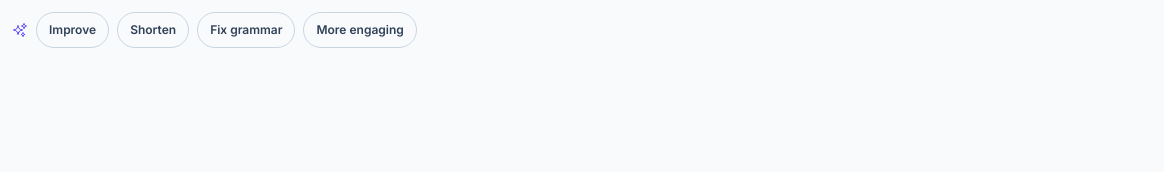
TweetAssistPanel › Use suggestion replaces the draft and dismisses the panel
Click the button "Shorten" at (153, 30), box 117,12 -> 189,48
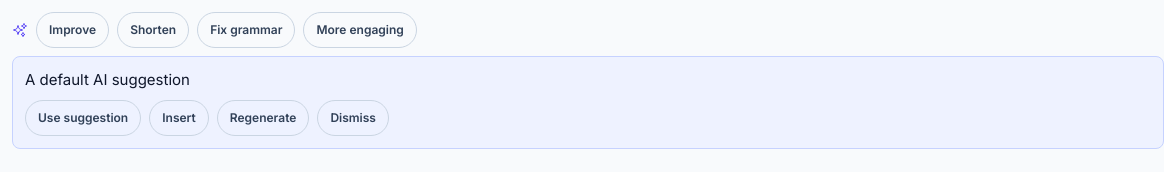
Now the element with test id "assist-suggestion" is shown, box 12,56 -> 1163,148
Click the button "Use suggestion" at (83, 118), box 25,100 -> 141,136
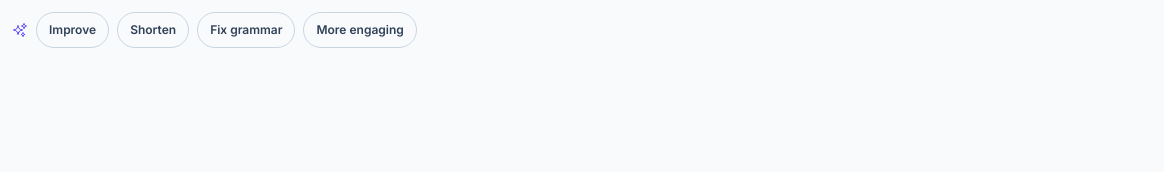
Now the element with test id "assist-suggestion" is gone
